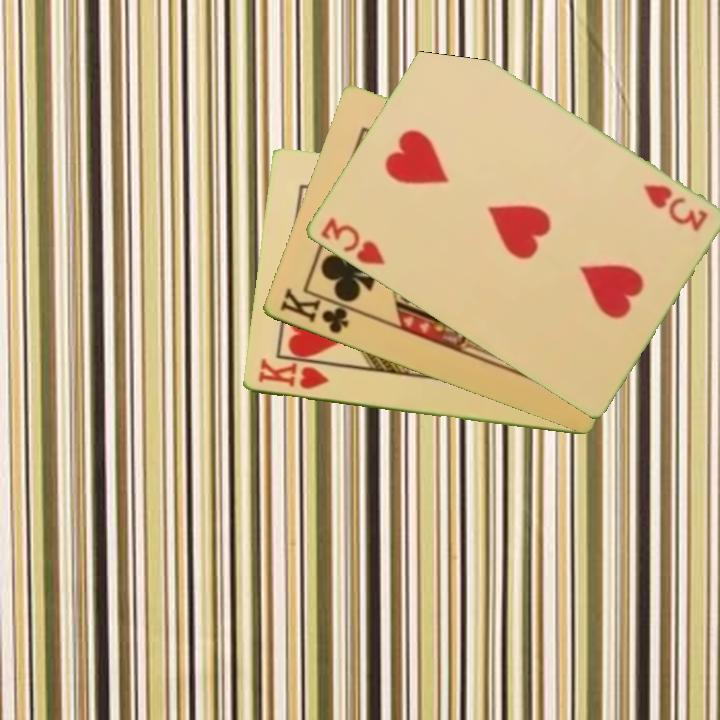3h: (316, 214, 387, 269), (639, 181, 710, 235)
Kc: (275, 285, 360, 337)
Kh: (254, 355, 331, 393)
